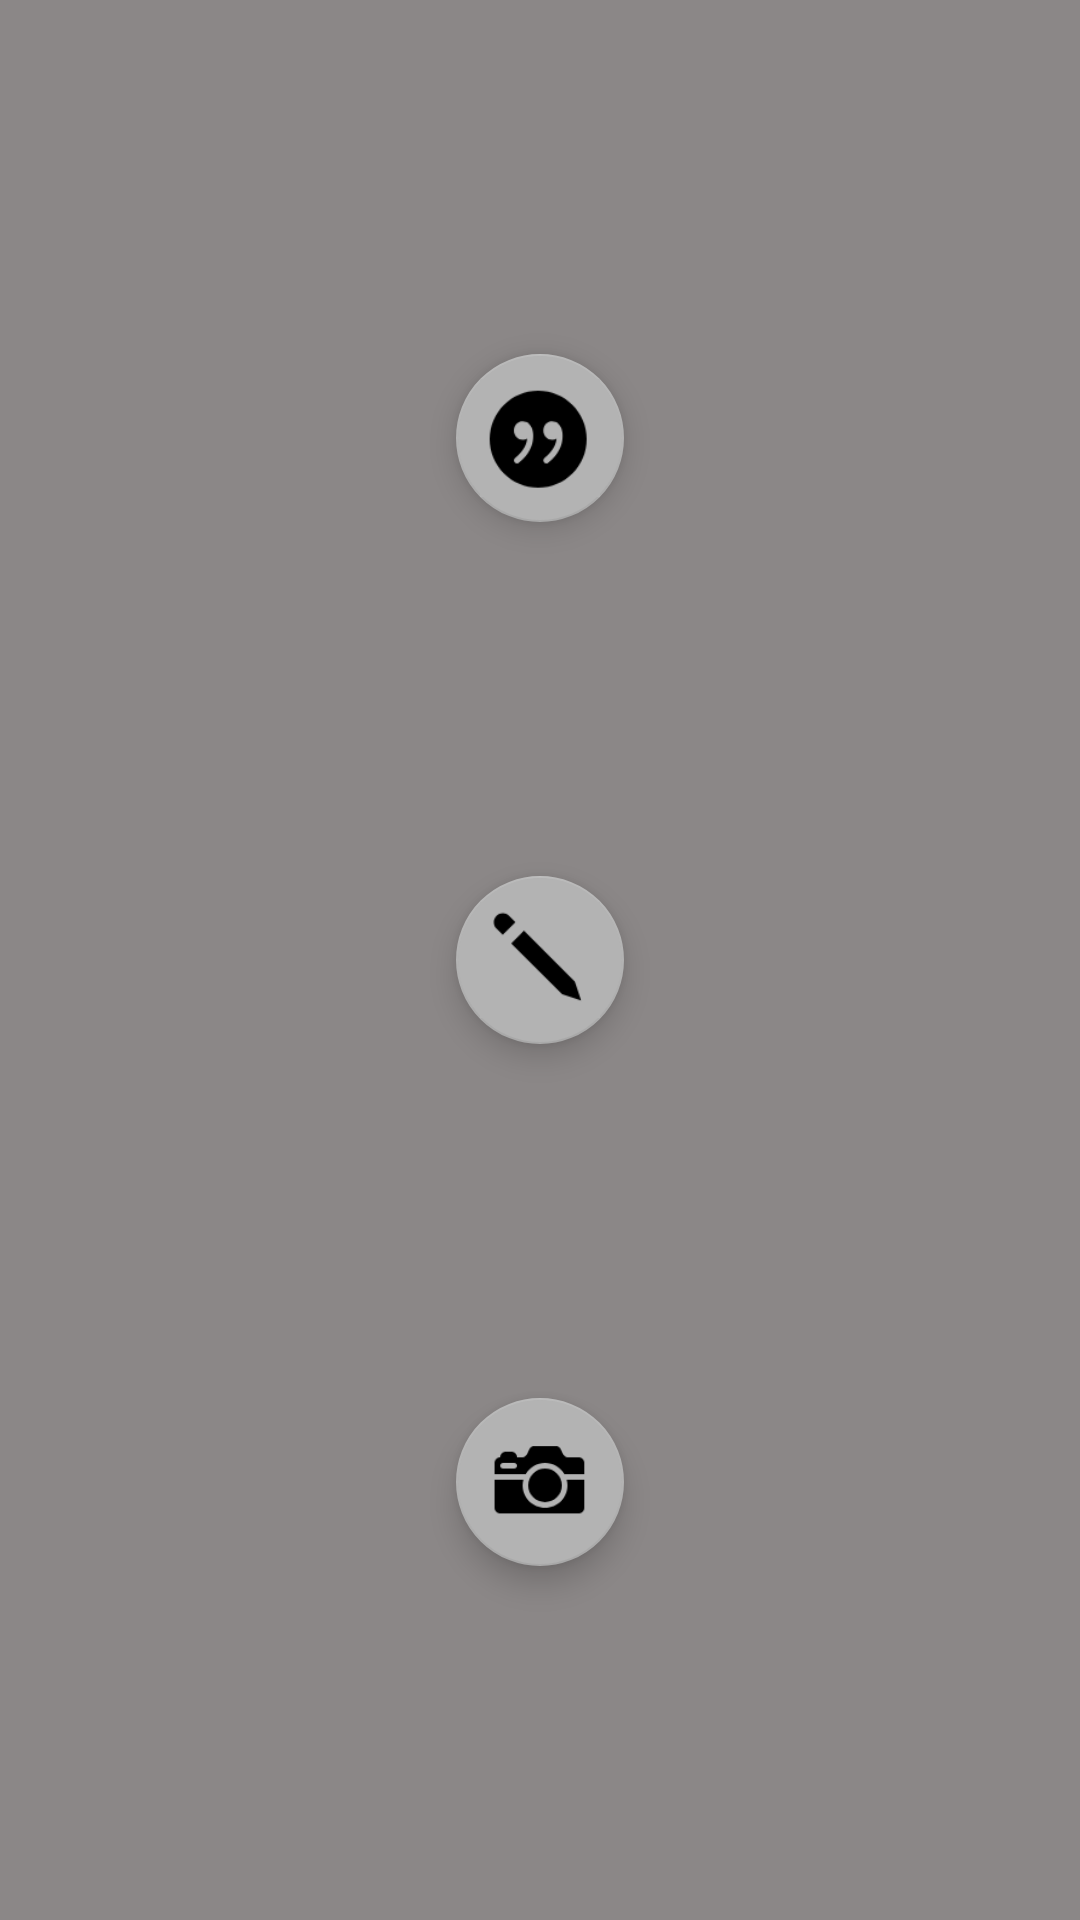

Icons on this 1080*1920 Android screen, each with the point to tap as (x=x, y=y):
pluspicture: (x=540, y=1482)
pluswrite: (x=540, y=960)
